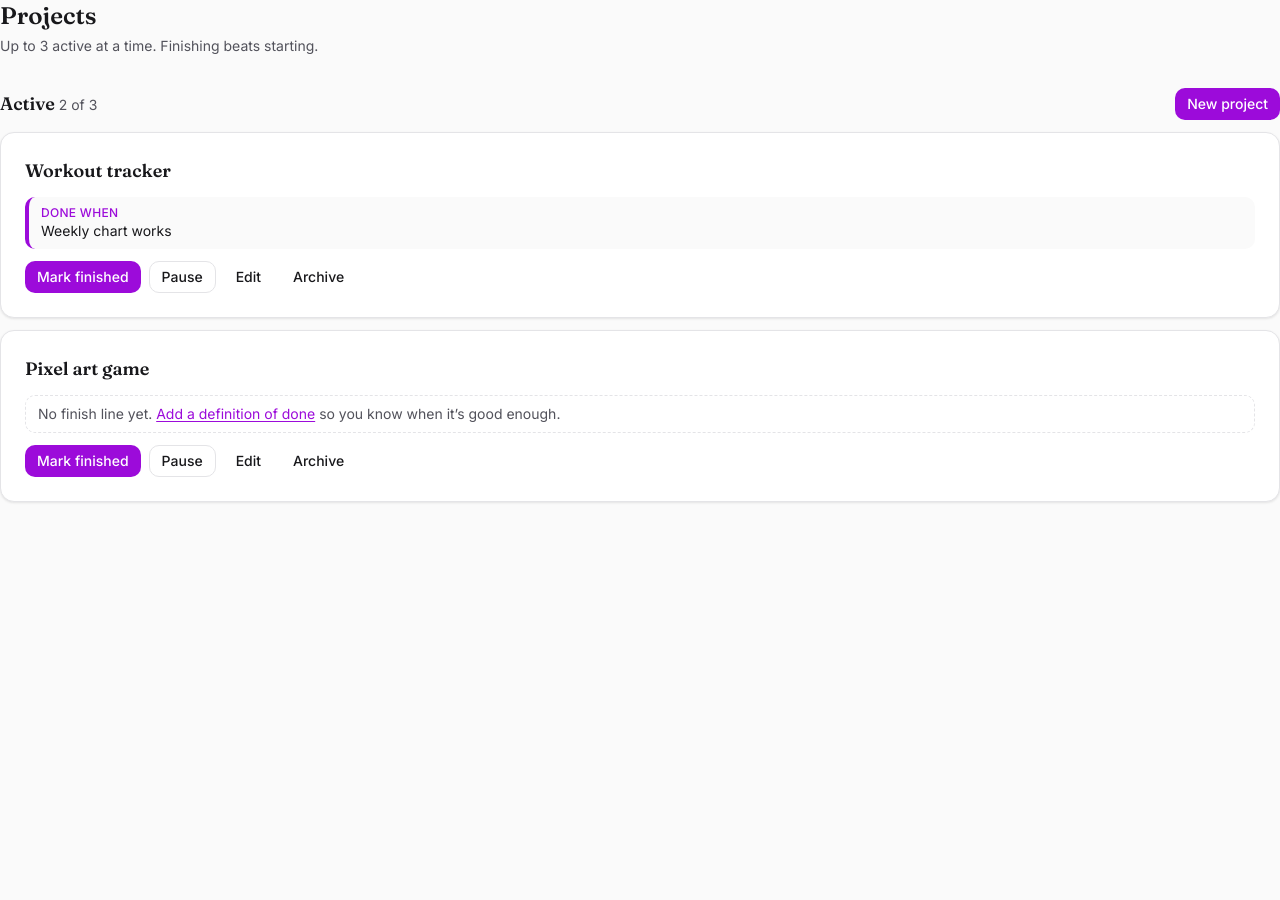
Test case: ProjectsPage › at the 3-project limit › switches to the limit options if the server rejects a 4th project
Click the button "New project" at [1228, 104], box [1175,88,1279,120]
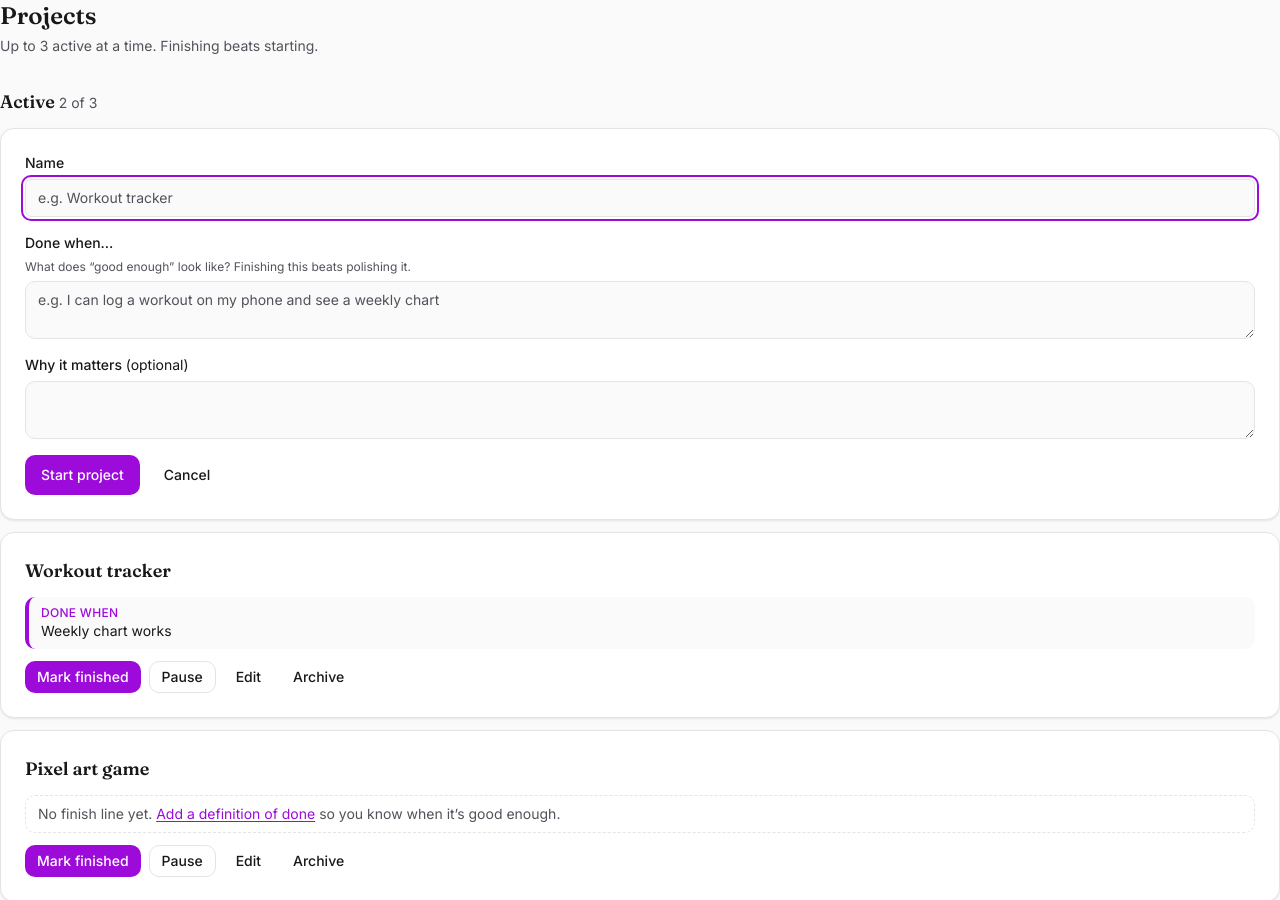
Type "Learn Rust" into the field labelled "Name" at [640, 198], box [25,179,1255,217]
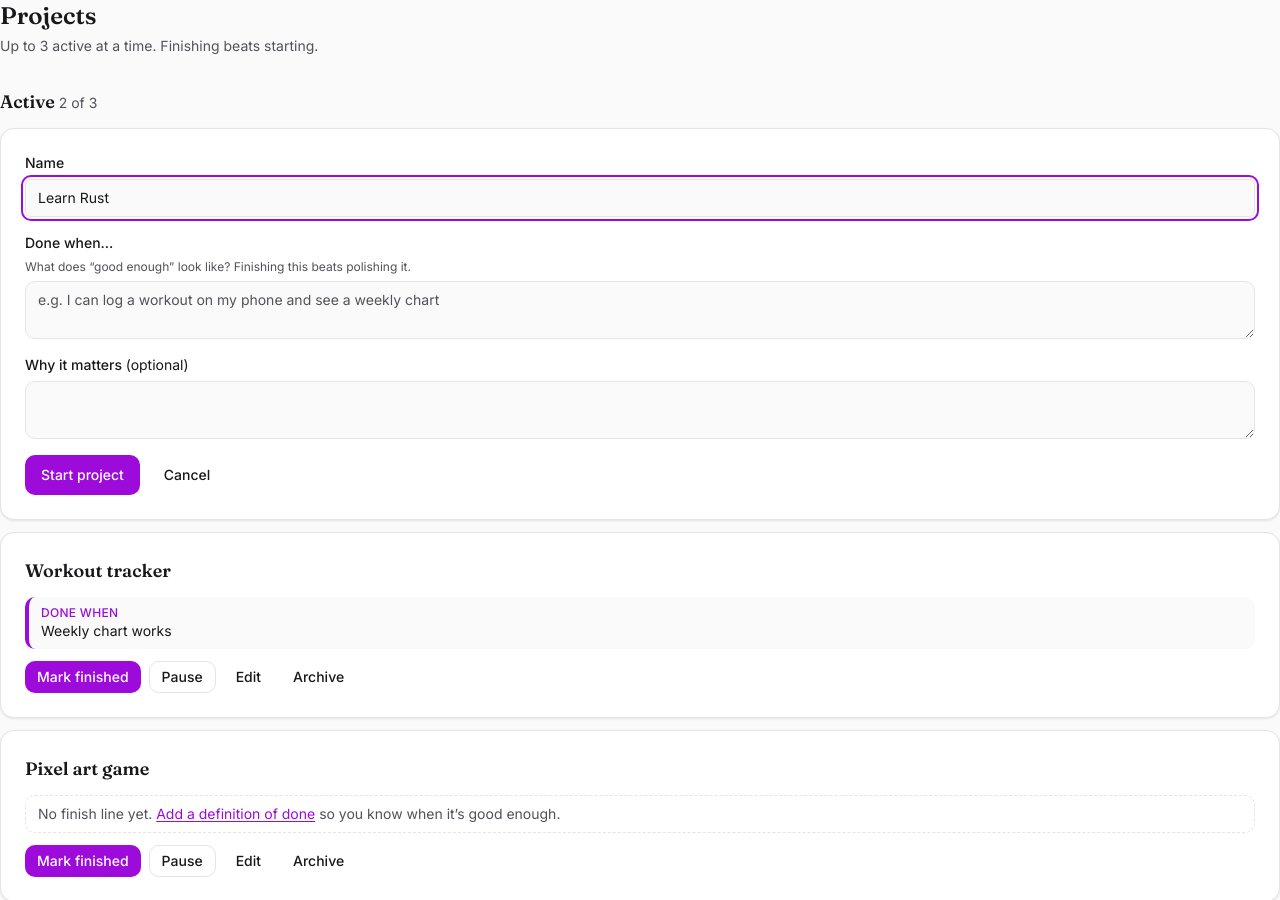
Click the button "Start project" at [82, 475], box [25,455,140,495]
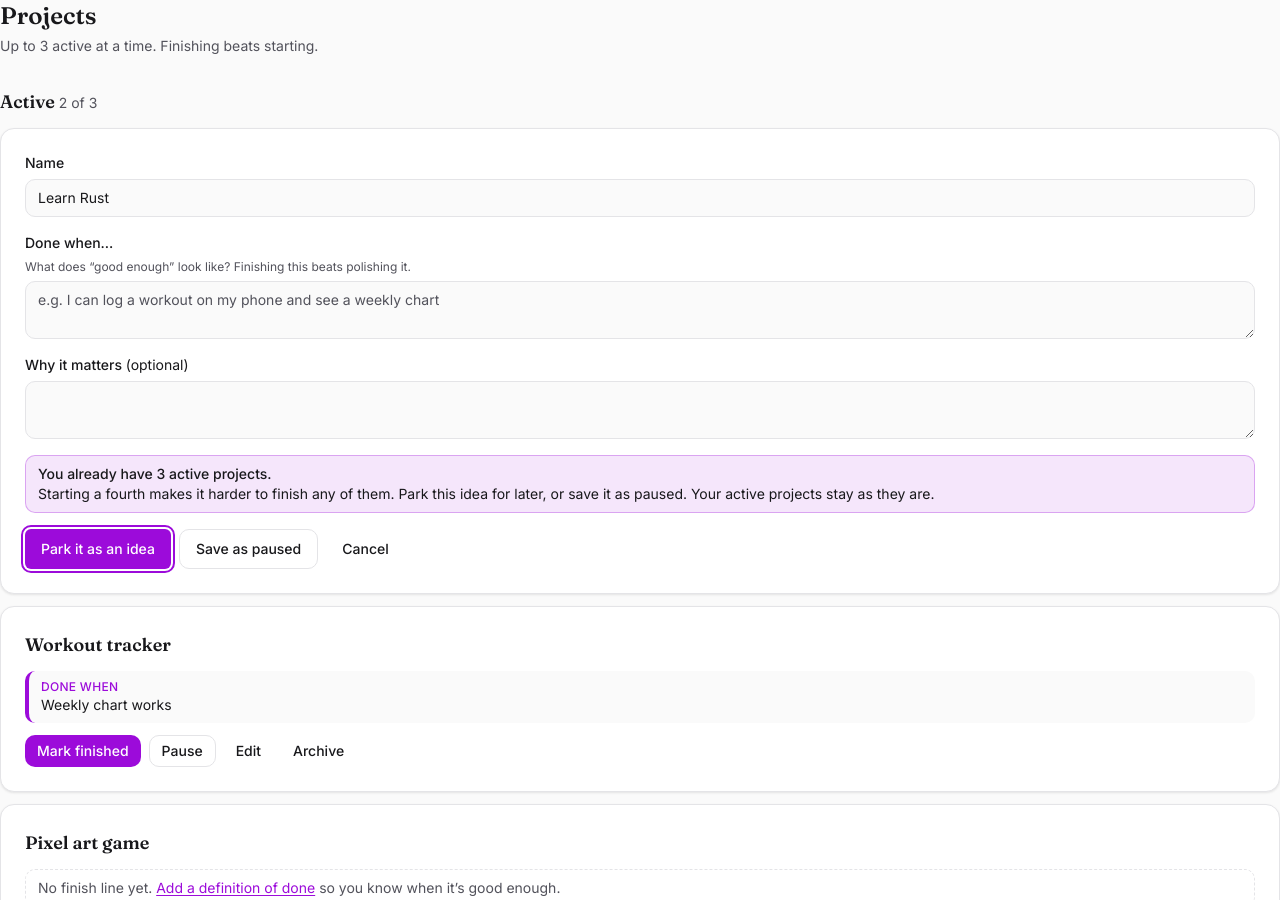
Now the button "Park it as an idea" is shown, box [25,529,171,569]
